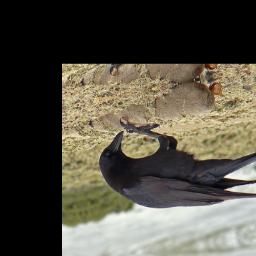Crow: (90, 86, 256, 229)
